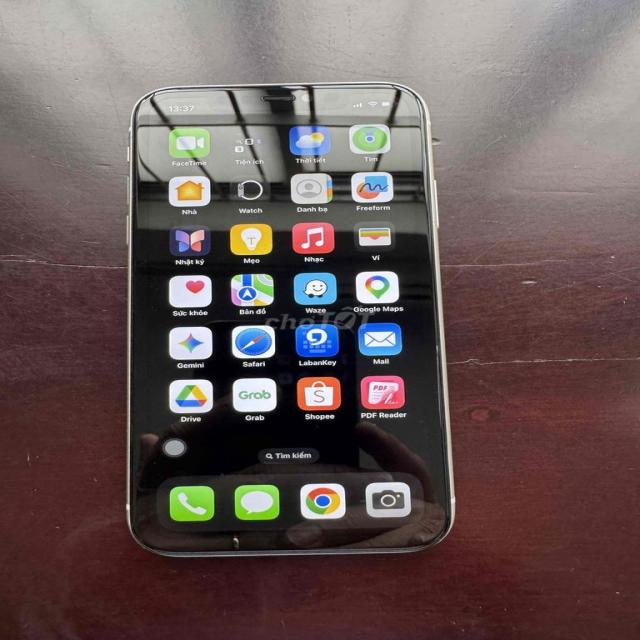gen_11: (122, 80, 465, 560)
scratch: (217, 532, 246, 550)
